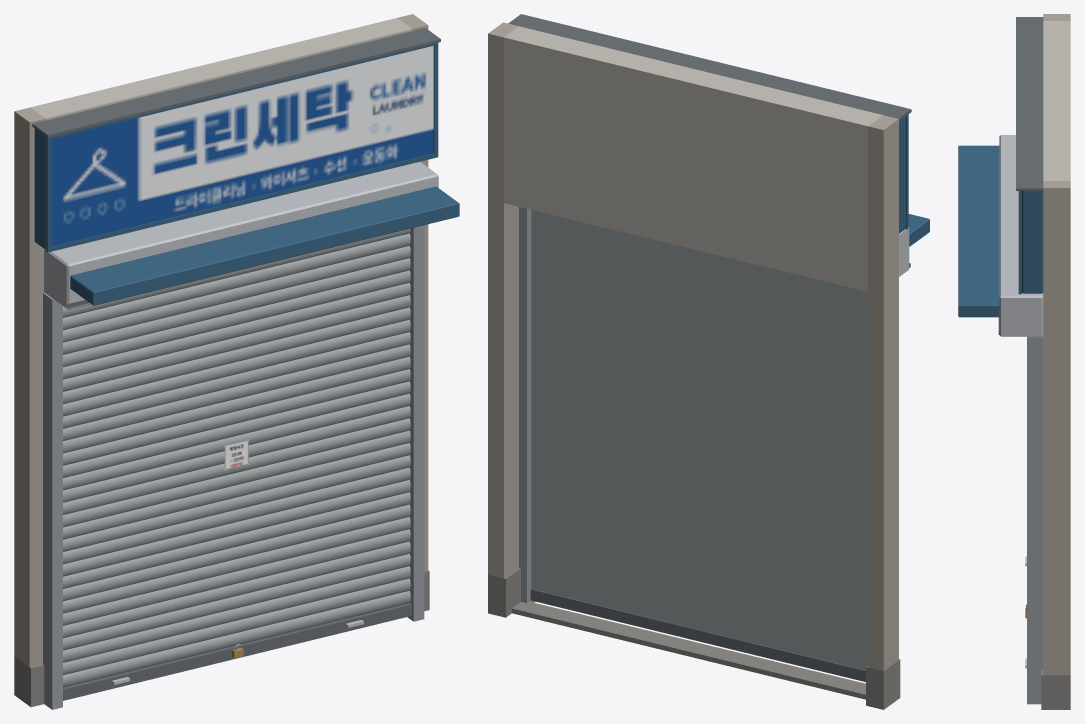
File: SC_Shop_Laundry_Closed.gltf
3 renders of one model, left to right at view 1: azimuth 30°, elevation 25°; view 2: azimuth 150°, elevation 25°; view 3: azimuth 270°, elevation 25°, orthographic. The views are drawn at different scales.
Visible parts, largest first — view 1: SC_Shop_Laundry_Closed; view 2: SC_Shop_Laundry_Closed; view 3: SC_Shop_Laundry_Closed.
Part boxes in pixels (left/top/right/bottom): SC_Shop_Laundry_Closed: left=14, top=14, right=459, bottom=709; SC_Shop_Laundry_Closed: left=488, top=14, right=929, bottom=709; SC_Shop_Laundry_Closed: left=958, top=14, right=1070, bottom=709.
Bounding box in the file's own units: 3 × 4.2 × 0.82.
2 materials, 2 textured.
